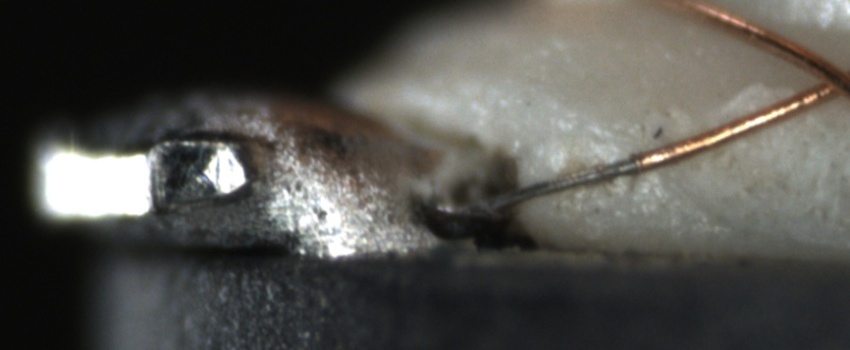CL: (795, 51, 850, 105)
TS: (456, 158, 638, 219)
TTCW: (455, 133, 691, 220)
